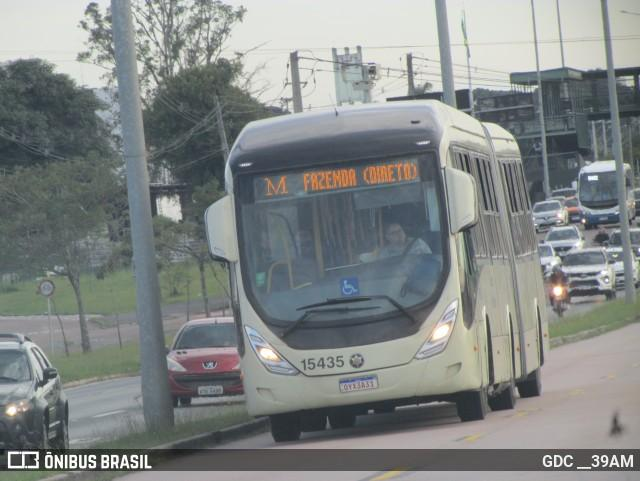FAZENDA: (299, 165, 361, 195)
